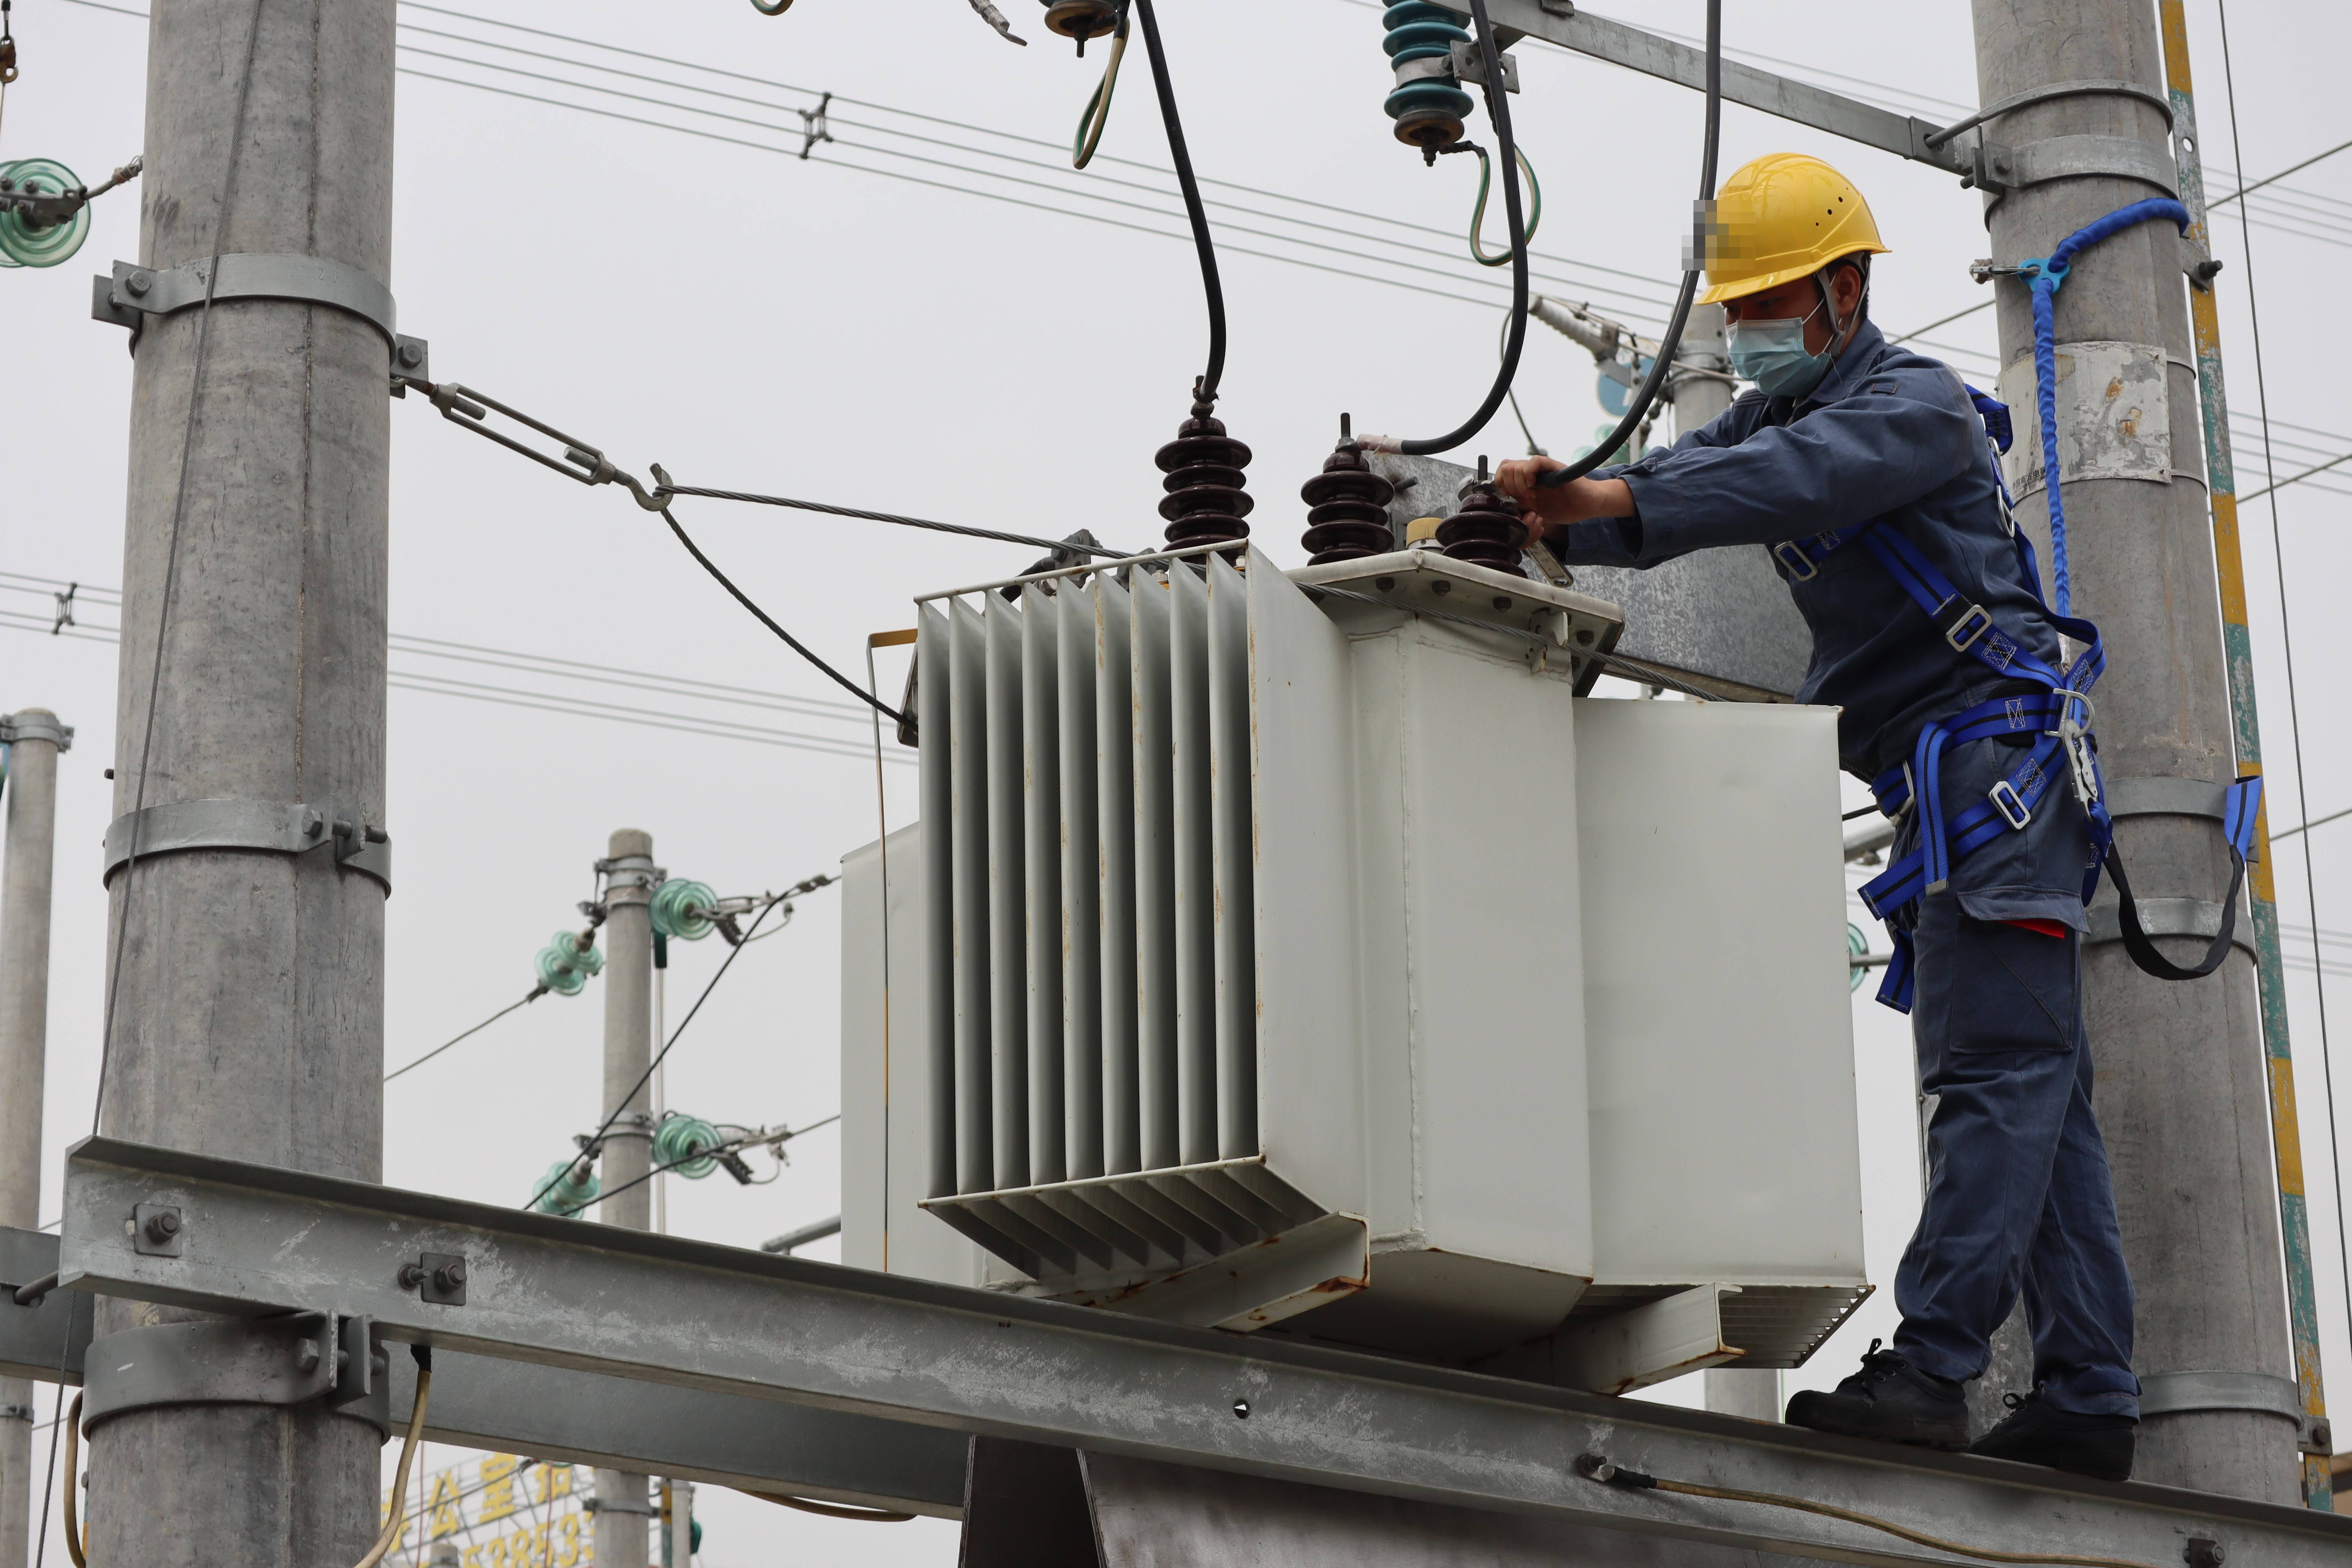downsuit: (1866, 728, 2147, 1410)
upsuit: (1556, 317, 2091, 714)
